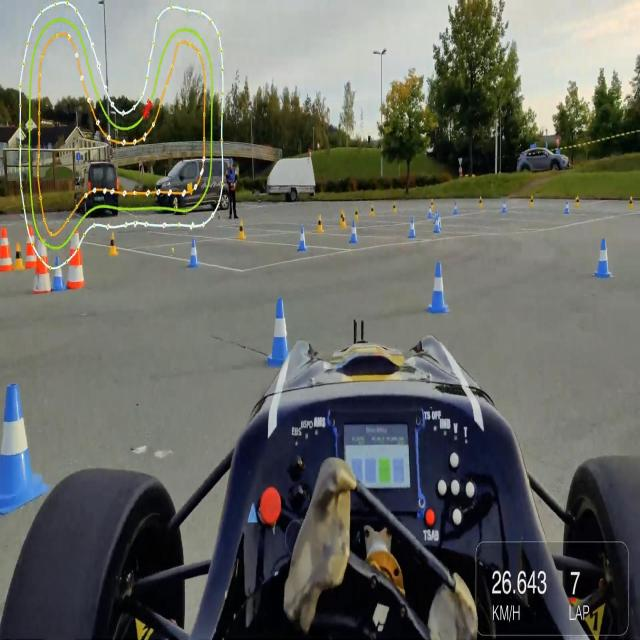blue_cone: (0, 360, 50, 522), (265, 293, 300, 369), (426, 256, 452, 316), (592, 235, 616, 280), (50, 254, 66, 293), (186, 237, 199, 270), (297, 224, 308, 252), (348, 219, 359, 246), (407, 216, 417, 241), (433, 215, 440, 235), (452, 199, 460, 215), (426, 203, 433, 219), (564, 199, 570, 215), (437, 213, 442, 230), (502, 200, 508, 214)
large_orange_cone: (65, 226, 88, 292), (34, 232, 51, 296), (0, 225, 15, 276), (24, 223, 38, 274)
yellow_cone: (13, 242, 27, 272), (108, 230, 119, 258), (236, 220, 248, 242), (315, 212, 325, 234), (341, 211, 347, 230), (339, 208, 345, 226), (628, 196, 634, 211), (574, 196, 580, 210), (370, 203, 376, 217), (478, 196, 484, 209), (355, 208, 360, 223), (530, 194, 534, 210), (392, 202, 397, 214)
